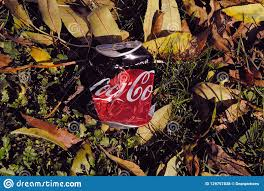Coca-Cola: (98, 55, 154, 121), (88, 62, 155, 110), (92, 49, 127, 121)
